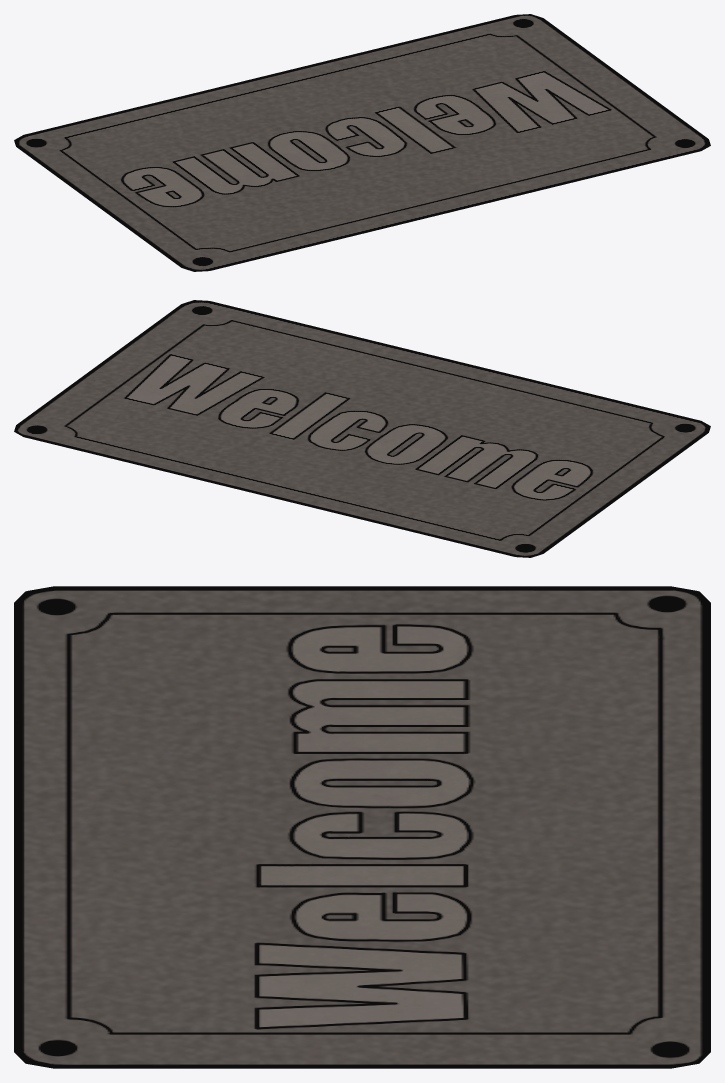
Rendered from Carpet.fbx.
3 renders of one model, top to bottom at view 1: azimuth 30°, elevation 25°; view 2: azimuth 150°, elevation 25°; view 3: azimuth 270°, elevation 25°, orthographic. The views are drawn at different scales.
Visible parts, largest first — view 1: Carpet; view 2: Carpet; view 3: Carpet.
Boxes of the visible parts, x1,y1,x2,y2 form: Carpet: (14,14,710,271); Carpet: (14,300,710,557); Carpet: (14,586,710,1068).
Size of the model in its own units: 90 by 0 by 55.
